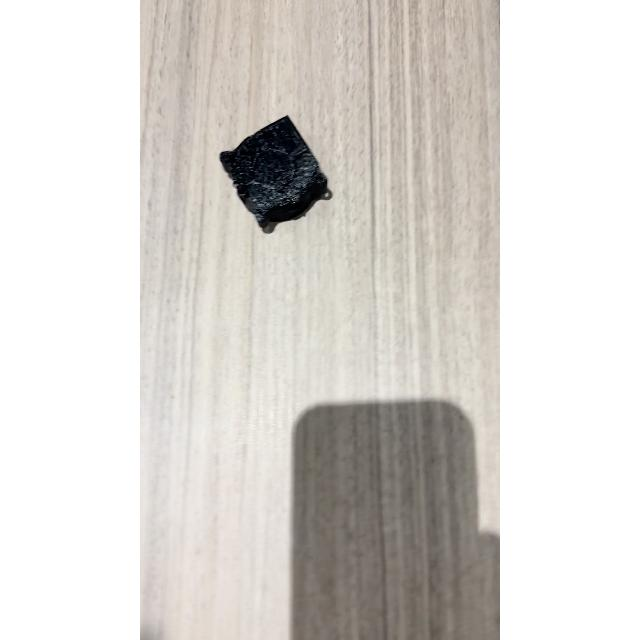Pieza_3: (219, 110, 337, 236)
